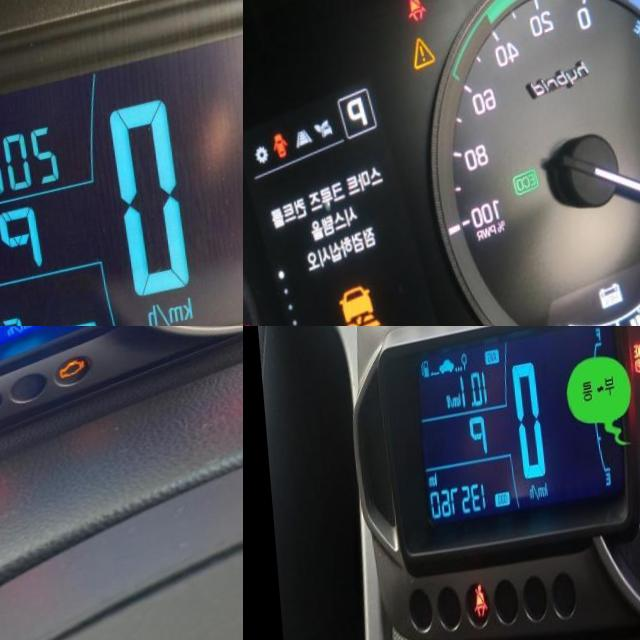Central Warning lamp: (406, 50, 435, 90)
Doors: (267, 140, 289, 173)
